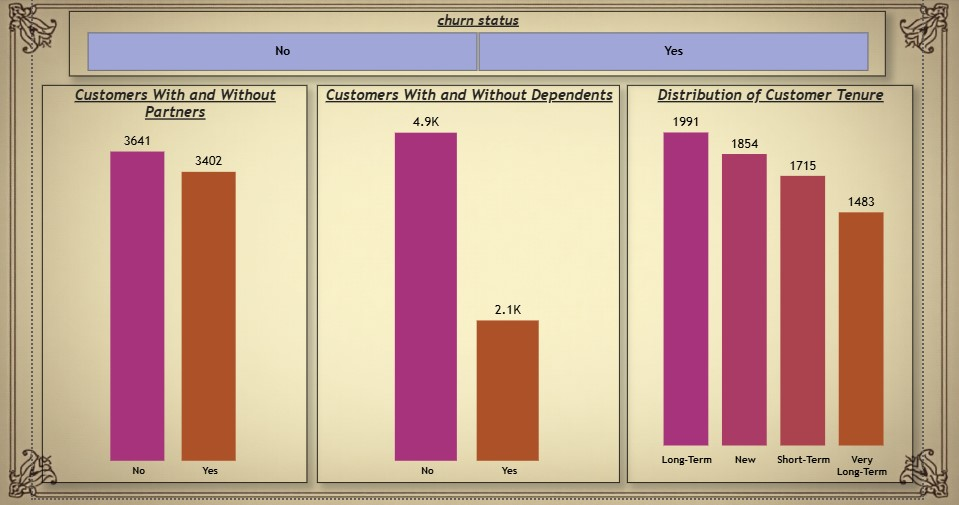

What the dashboard file says about the page in this screenshot:
{"tool":"powerbi","page":{"name":"Customer Tenure Analysis","canvas":[1280,720],"ordinal":1},"visuals":[{"type":"clusteredColumnChart","title":"Customers With and Without Partners","fields":{"Category":["Telco_Customer_Churn_Dataset  (2).Partner"],"Y":["CountNonNull(Telco_Customer_Churn_Dataset  (2).customerID)"]},"box":[13,125.3,381.6,573.1],"z":0},{"type":"clusteredColumnChart","title":"Customers With and Without Dependents","fields":{"Category":["Telco_Customer_Churn_Dataset  (2).Dependents"],"Y":["CountNonNull(Telco_Customer_Churn_Dataset  (2).customerID)"]},"box":[409,125.3,436.3,573.1],"z":1000},{"type":"columnChart","title":"Distribution of Customer Tenure","fields":{"Category":["Telco_Customer_Churn_Dataset  (2).TenureGroup"],"Y":["CountNonNull(Telco_Customer_Churn_Dataset  (2).customerID)"]},"box":[855.4,125.3,411.8,573.1],"z":2000},{"type":"slicer","title":"churn status","fields":{"Values":["Telco_Customer_Churn_Dataset  (2).Churn"]},"box":[51.8,18.7,1176.5,93.6],"z":3000}]}

Visuals, with their boxes in screenshot pixels (x1, y1, x2, y2):
"Customers With and Without Partners" clusteredColumnChart: 41, 84, 305, 480
"Customers With and Without Dependents" clusteredColumnChart: 315, 84, 617, 480
"Distribution of Customer Tenure" columnChart: 624, 84, 908, 480
"churn status" slicer: 68, 10, 881, 75
